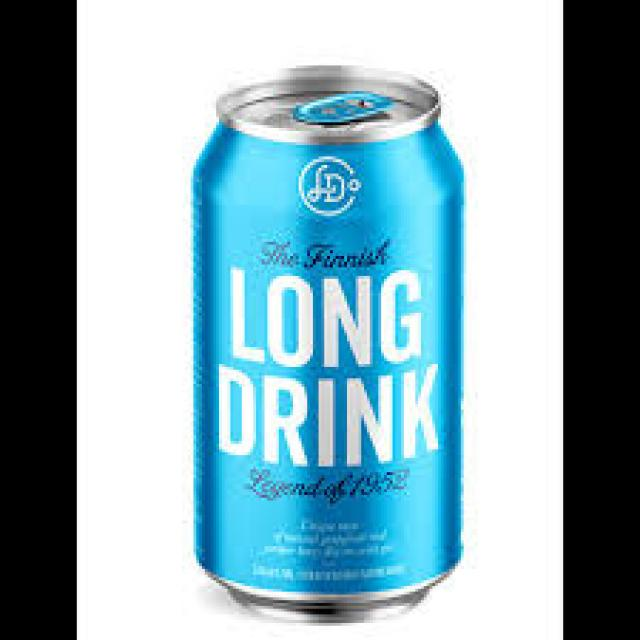Cans: (179, 51, 481, 620)
